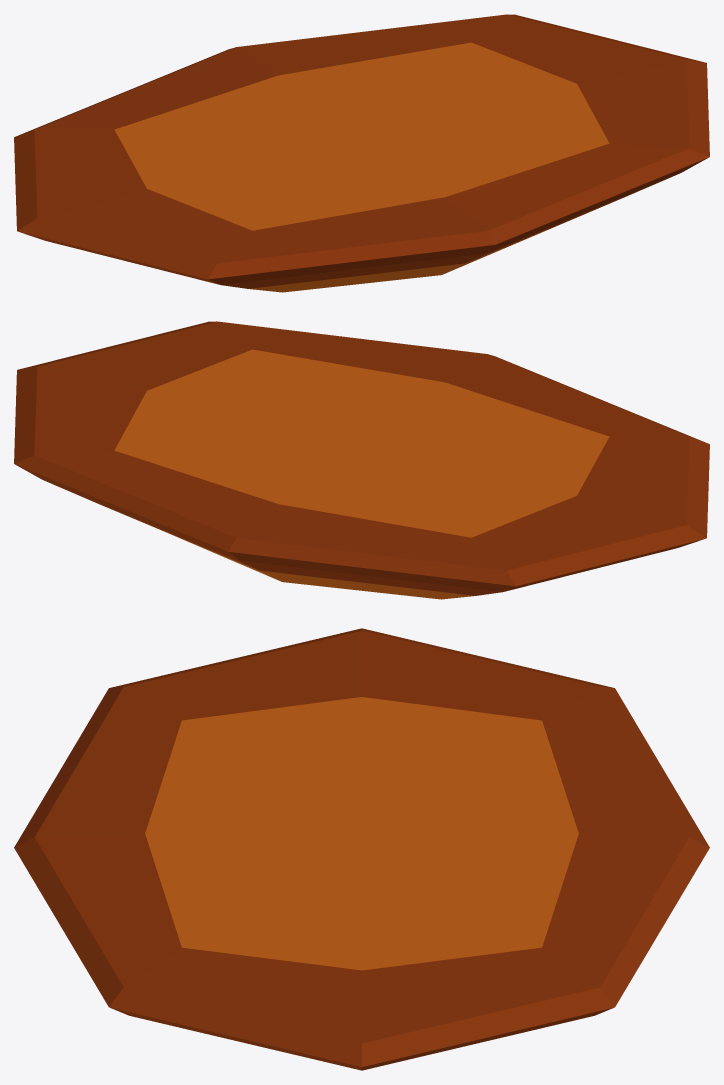
File: medium_platform.obj
3 views of the same model, one above another, from view 1: azimuth 30°, elevation 25°; view 2: azimuth 150°, elevation 25°; view 3: azimuth 270°, elevation 25° (orthographic). The views are drawn at different scales.
Visible parts, largest first — view 1: Cube; view 2: Cube; view 3: Cube.
Boxes of the visible parts, x1,y1,x2,y2 form: Cube: (14, 14, 709, 292); Cube: (14, 321, 709, 599); Cube: (14, 628, 709, 1070).
Bounding box in the file's own units: 3.02 × 0.4645 × 2.03.
